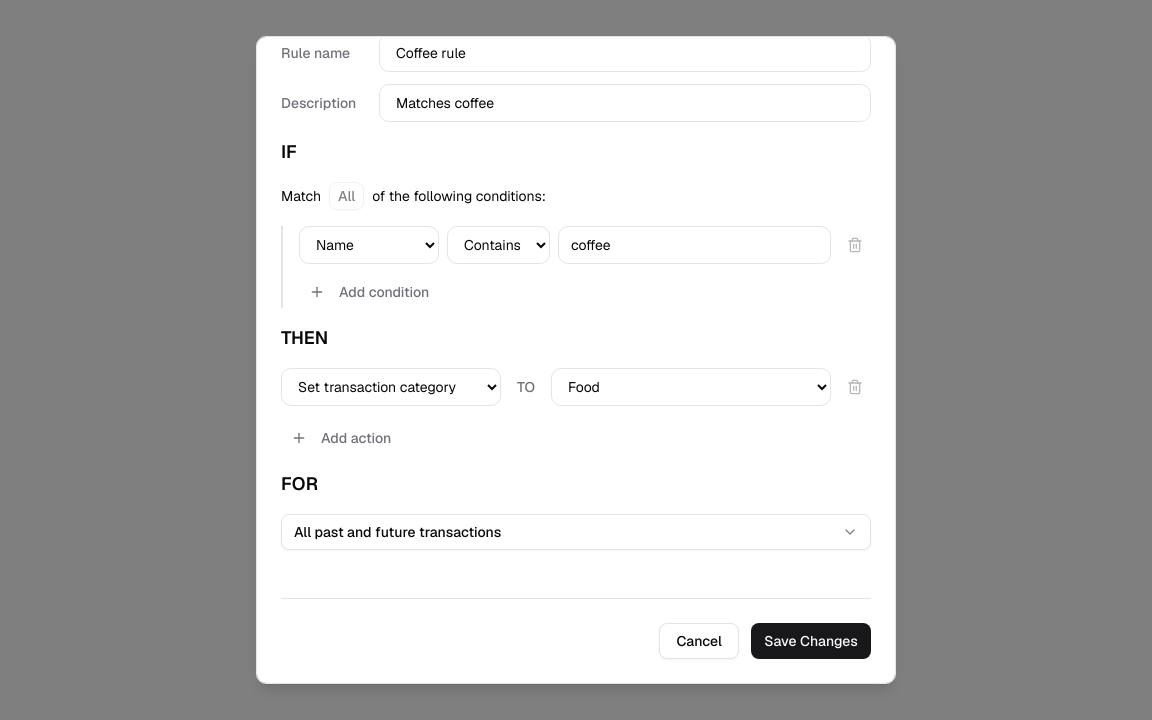
Test: EditRuleModal › shows the save failure reason and keeps the dialog open
The width and height of the screenshot is (1152, 720).
(page scrolled)
expect the field showing "Coffee rule" next to "Rule name" is shown: met, box x1=379 y1=36 x2=871 y2=72
Click the button "Save Changes": (811, 641) x1=751 y1=623 x2=871 y2=659
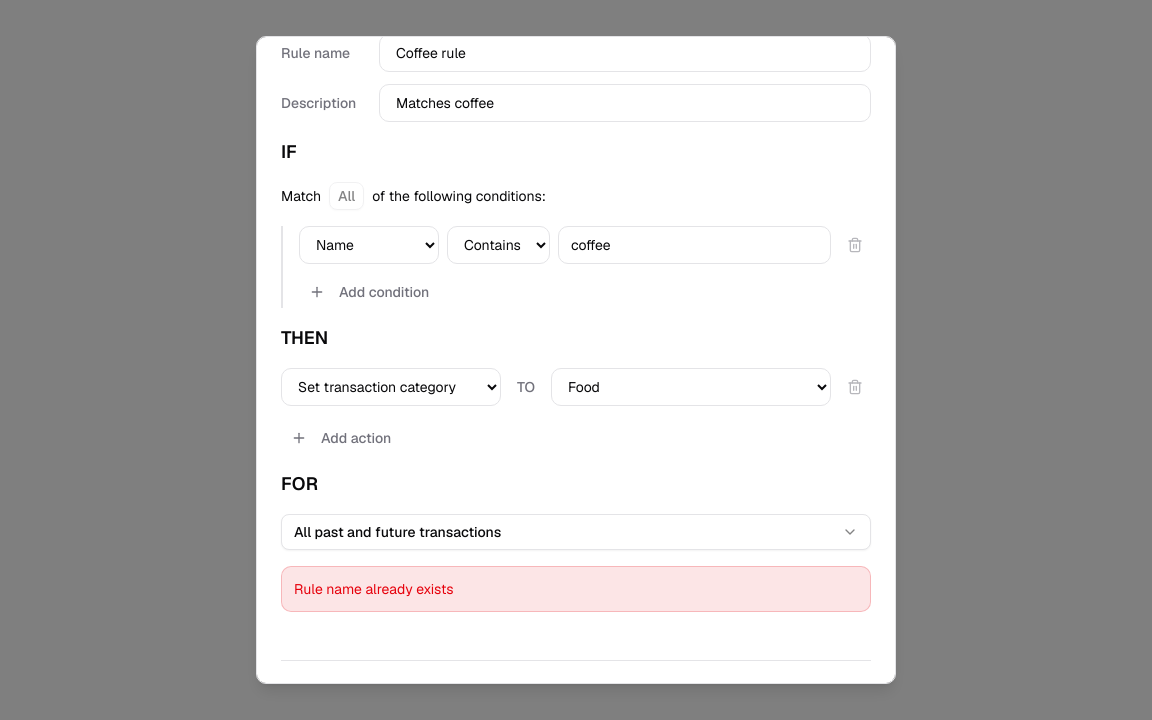
expect the text "Rule name already exists" is shown: met, box x1=281 y1=566 x2=871 y2=612
